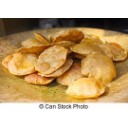poori: (84, 53, 116, 82), (38, 45, 67, 74), (68, 78, 106, 99), (9, 52, 37, 76), (101, 40, 127, 62), (18, 31, 49, 49), (50, 29, 85, 44), (70, 40, 105, 55)
